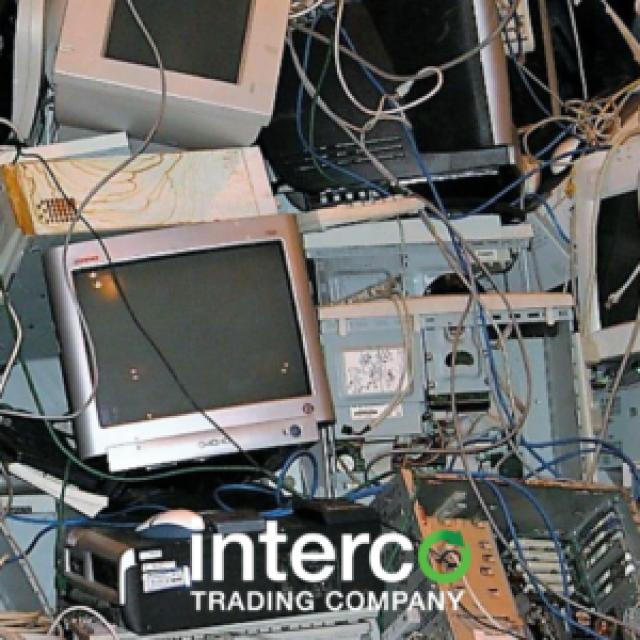hazard: (0, 29, 603, 591)
